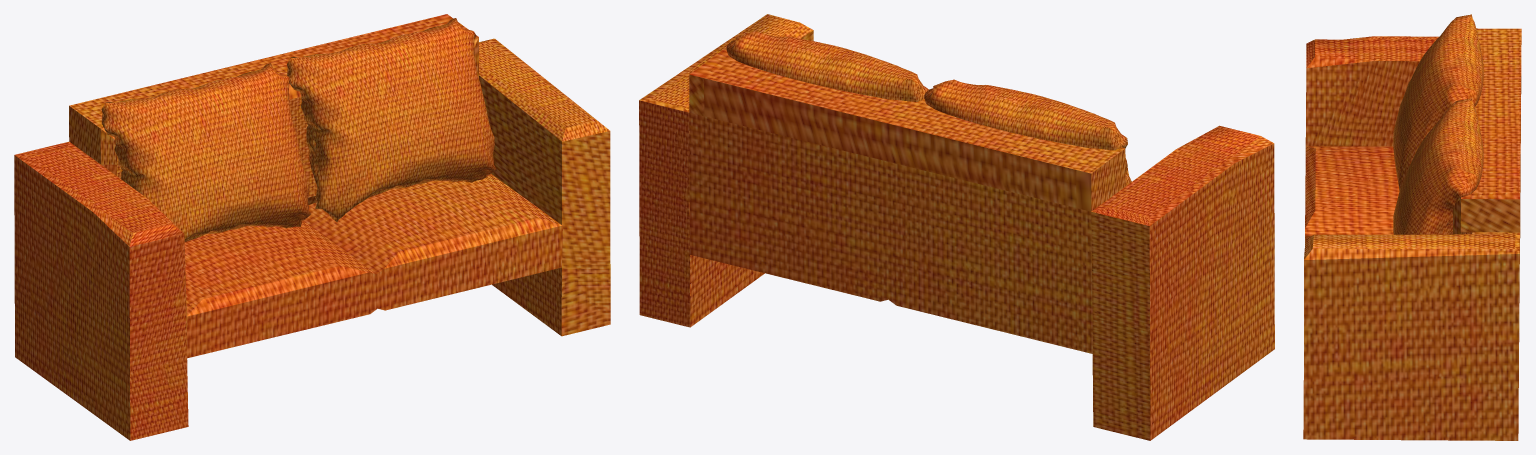
The model's file is canapé version 2.FBX.
The picture shows the model from 3 angles, left to right: view 1: azimuth 30°, elevation 25°; view 2: azimuth 150°, elevation 25°; view 3: azimuth 270°, elevation 25°; orthographic projection. The views are drawn at different scales.
Parts seen in each view (by area): view 1: Objet016, Rectangle004, Rectangle003; view 2: Objet016, Rectangle003, Rectangle004; view 3: Objet016, Rectangle004, Rectangle003.
Part boxes in pixels (x1,y1,x2,y2): Objet016: (14, 14, 610, 440); Rectangle004: (287, 18, 496, 221); Rectangle003: (101, 63, 310, 242); Objet016: (639, 14, 1274, 440); Rectangle003: (923, 79, 1131, 185); Rectangle004: (726, 31, 928, 101); Objet016: (1303, 28, 1521, 440); Rectangle004: (1393, 98, 1483, 234); Rectangle003: (1393, 14, 1483, 190).
Bounding box in the file's own units: 402 × 209 × 171.
1 material, 1 textured.
